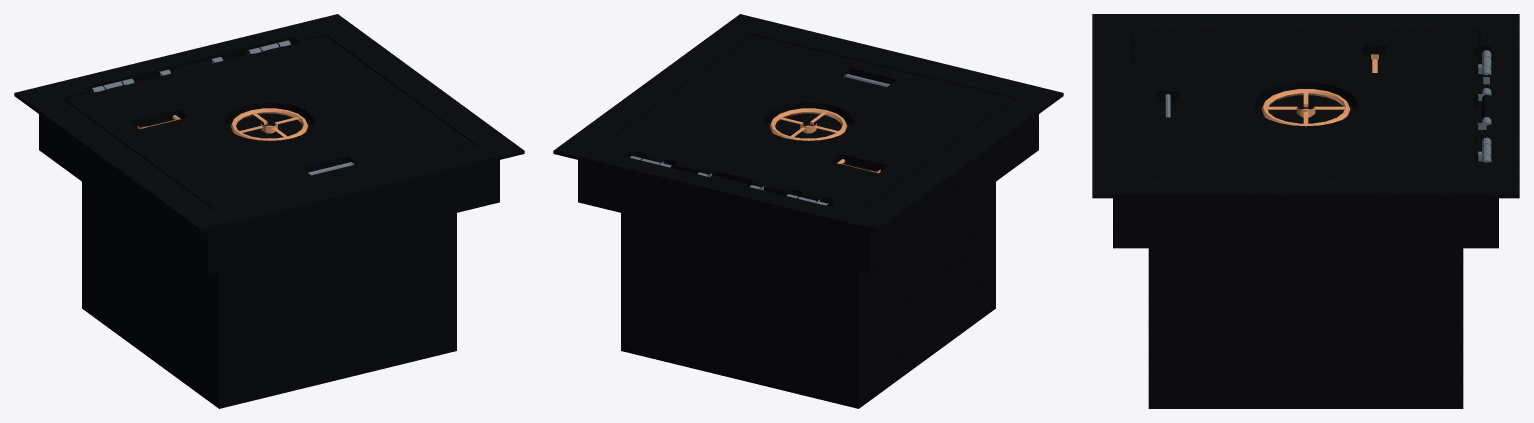
3 renders of one model, left to right at view 1: azimuth 30°, elevation 25°; view 2: azimuth 150°, elevation 25°; view 3: azimuth 270°, elevation 25°, orthographic. The views are drawn at different scales.
Parts seen in each view (by area): view 1: hatch_frame, hatch_leaf_shell, hatch_OverrideOrange_Handwheel; view 2: hatch_frame, hatch_leaf_shell, hatch_OverrideOrange_Handwheel; view 3: hatch_frame, hatch_leaf_shell, hatch_OverrideOrange_Handwheel, hatch_HingeHeavy_leaf.
Boxes of the visible parts, <box> form: hatch_frame: <box>14,14,524,408</box>; hatch_leaf_shell: <box>64,36,474,209</box>; hatch_OverrideOrange_Handwheel: <box>230,108,308,140</box>; hatch_frame: <box>553,14,1063,408</box>; hatch_leaf_shell: <box>603,35,1013,209</box>; hatch_OverrideOrange_Handwheel: <box>769,108,847,140</box>; hatch_frame: <box>1092,14,1519,408</box>; hatch_leaf_shell: <box>1133,31,1478,177</box>; hatch_OverrideOrange_Handwheel: <box>1261,89,1350,126</box>; hatch_HingeHeavy_leaf: <box>1477,56,1491,161</box>.
Size of what is drawn, in the model's own units: 1.24 by 0.762 by 1.24.
Materials: 5 (3 with a texture image).
